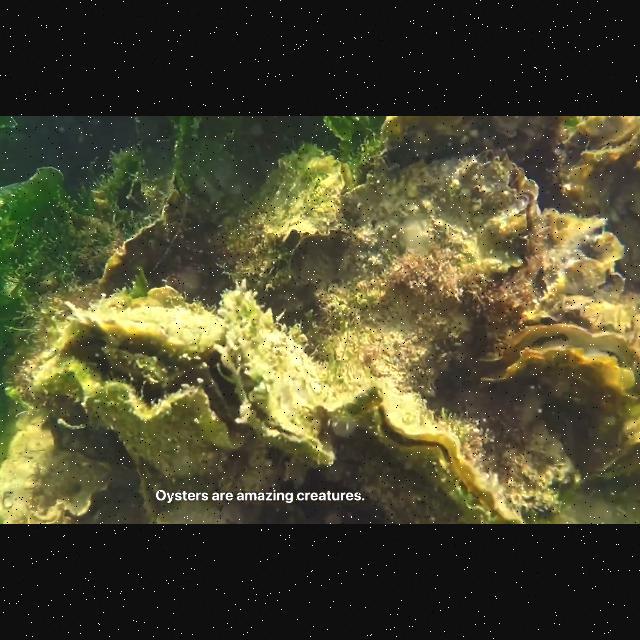Oyster-Closed: (380, 116, 564, 208), (97, 167, 221, 286)
Oyster-Open: (334, 142, 538, 400), (36, 298, 254, 470), (308, 373, 518, 525), (219, 278, 335, 460), (470, 317, 632, 407), (560, 116, 640, 290), (526, 202, 622, 316), (5, 440, 116, 524), (262, 147, 344, 250), (215, 196, 292, 292), (121, 429, 171, 525), (586, 411, 640, 475)
